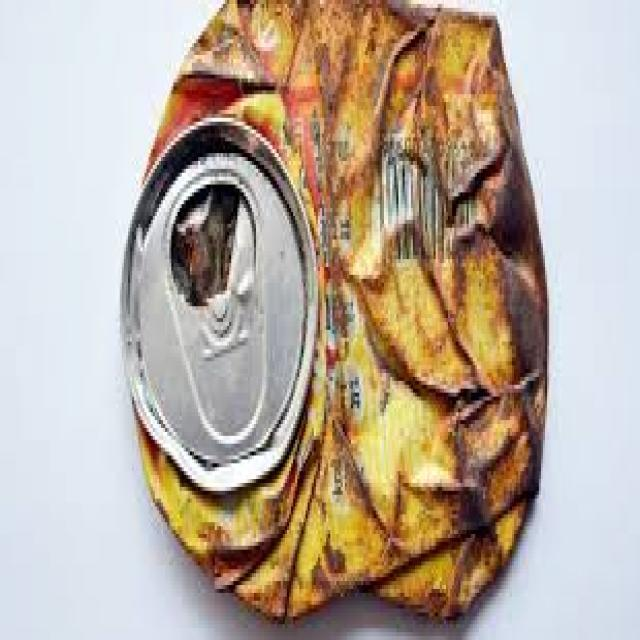recyclable: (120, 0, 549, 623)
